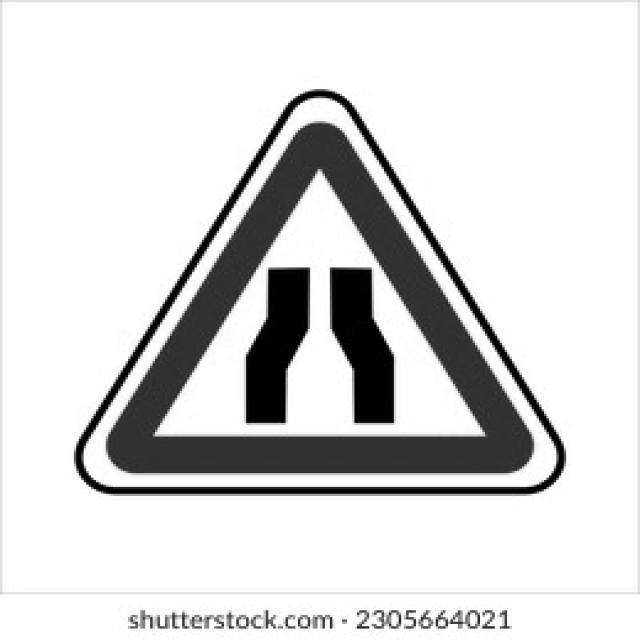narrow road ahead: (69, 85, 566, 502)
